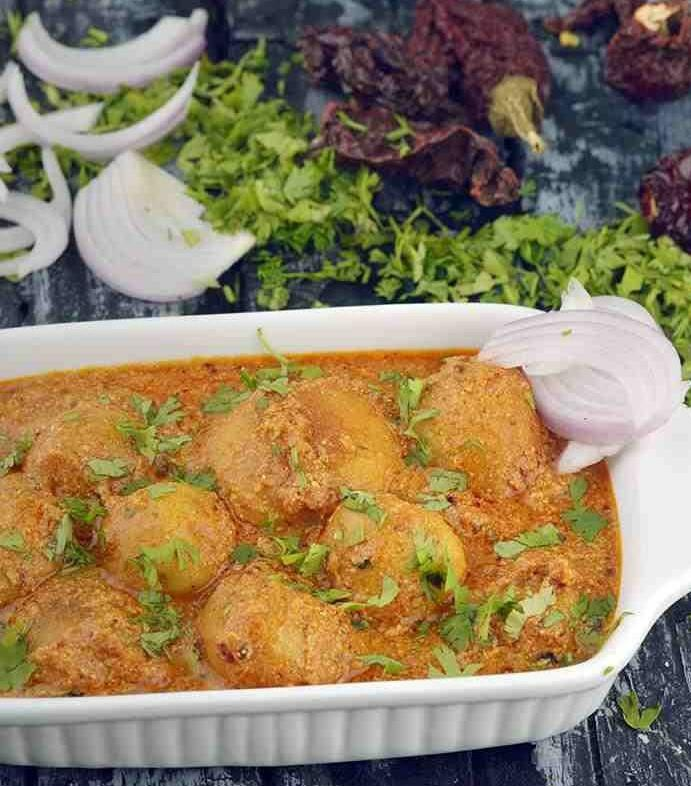DumAloo: (0, 345, 624, 699)
